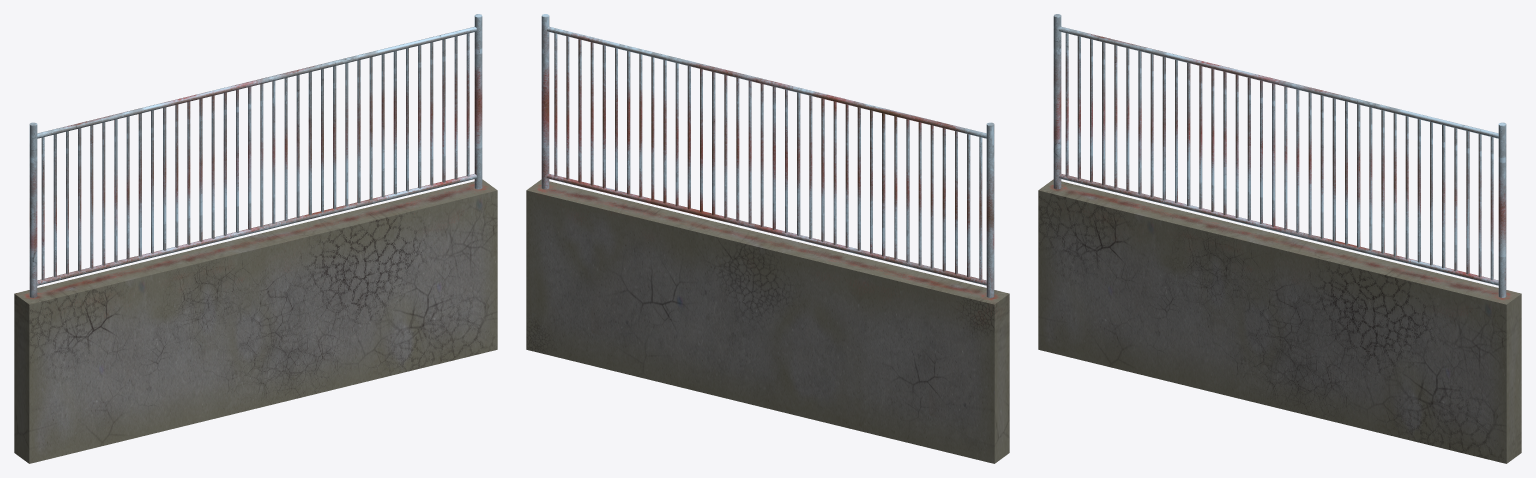
3 renders of one model, left to right at view 1: azimuth 30°, elevation 25°; view 2: azimuth 150°, elevation 25°; view 3: azimuth 330°, elevation 25°, orthographic.
Visible parts, largest first — view 1: Fence; view 2: Fence; view 3: Fence.
Part boxes in pixels (x1,y1,x2,y2): Fence: (14,14,497,463); Fence: (526,14,1009,463); Fence: (1038,14,1521,463).
Size of the model in its own units: 4 by 2.7 by 0.224.
Materials: 1 (1 with a texture image).
